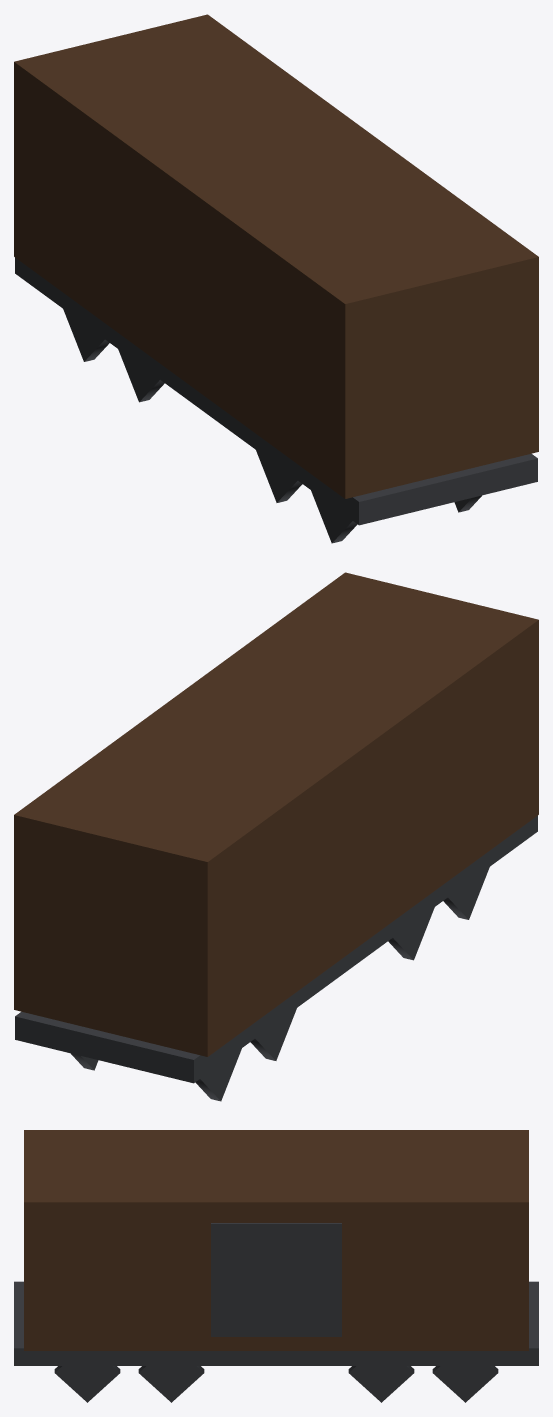
File: veh_ground_rail_wagon_a06_lod2.glb
The picture shows the model from 3 angles, top to bottom: view 1: azimuth 30°, elevation 25°; view 2: azimuth 150°, elevation 25°; view 3: azimuth 270°, elevation 25°; orthographic projection. The views are drawn at different scales.
Parts seen in each view (by area): view 1: body, wheel_2, wheel_6, wheel_0, wheel_4; view 2: body, wheel_0, wheel_4, wheel_6, wheel_2; view 3: body, wheel_1, wheel_3, wheel_5, wheel_7.
Part boxes in pixels (left/top/right/bottom): body: left=14, top=14, right=538, bottom=525; wheel_2: left=118, top=349, right=164, bottom=402; wheel_6: left=311, top=490, right=357, bottom=543; wheel_0: left=63, top=309, right=109, bottom=361; wheel_4: left=256, top=450, right=302, bottom=502; body: left=14, top=572, right=538, bottom=1083; wheel_0: left=195, top=1048, right=241, bottom=1101; wheel_4: left=388, top=907, right=434, bottom=960; wheel_6: left=443, top=867, right=489, bottom=919; wheel_2: left=250, top=1008, right=296, bottom=1060; body: left=14, top=1130, right=538, bottom=1365; wheel_1: left=432, top=1366, right=498, bottom=1402; wheel_3: left=348, top=1366, right=414, bottom=1402; wheel_5: left=138, top=1366, right=204, bottom=1402; wheel_7: left=54, top=1366, right=120, bottom=1402.
Size of the model in its own units: 2.63 by 3.55 by 8.
